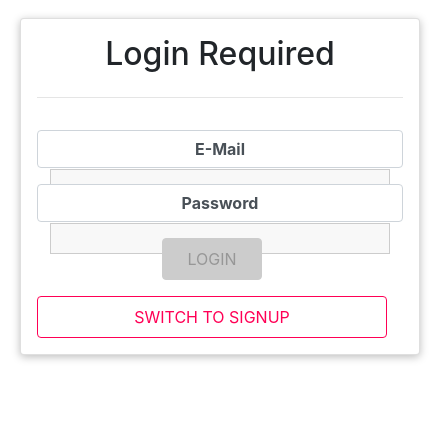
Test: render <AuthContainer> Component › Should render SWITCH TO SIGNUP button
Click the button "SWITCH TO SIGNUP".
click(212, 317)  # box [37, 296, 387, 338]
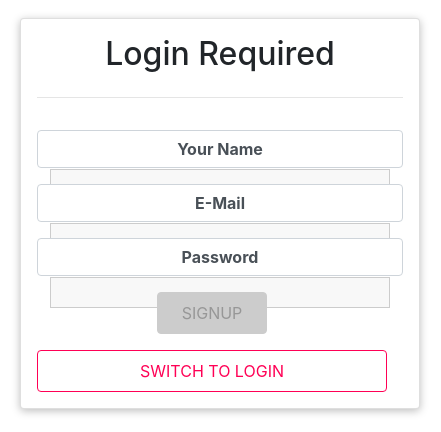
Expected: the button "SWITCH TO LOGIN" is shown, [37, 350, 387, 392]
